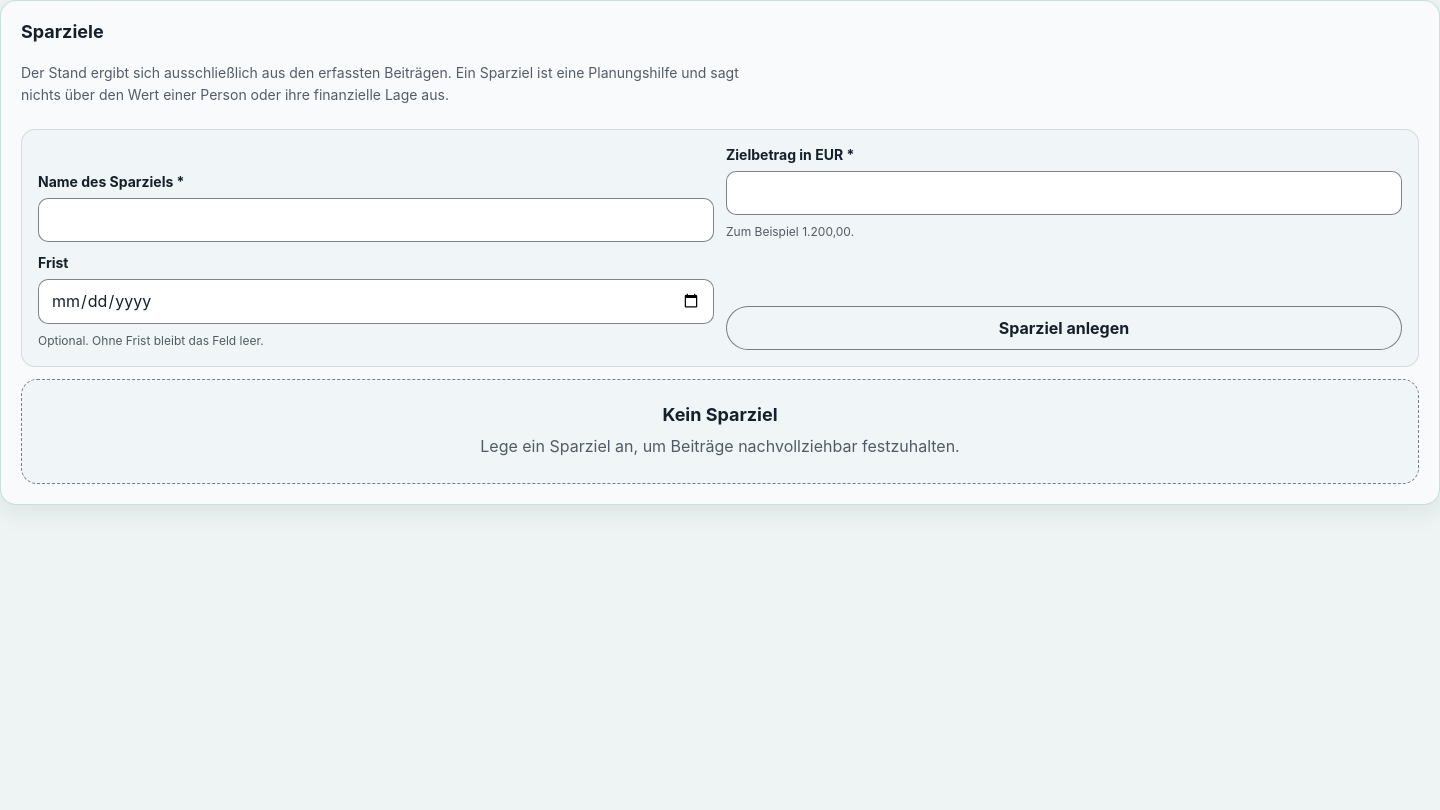
SavingsPanel › derives the current amount from the contributions
Check: the button "Sparziel anlegen" is shown, box [726,306,1402,350]
Type "Synthetisches Sparziel" into the field labelled "Name des Sparziels *" at (376,220), box [38,198,714,242]
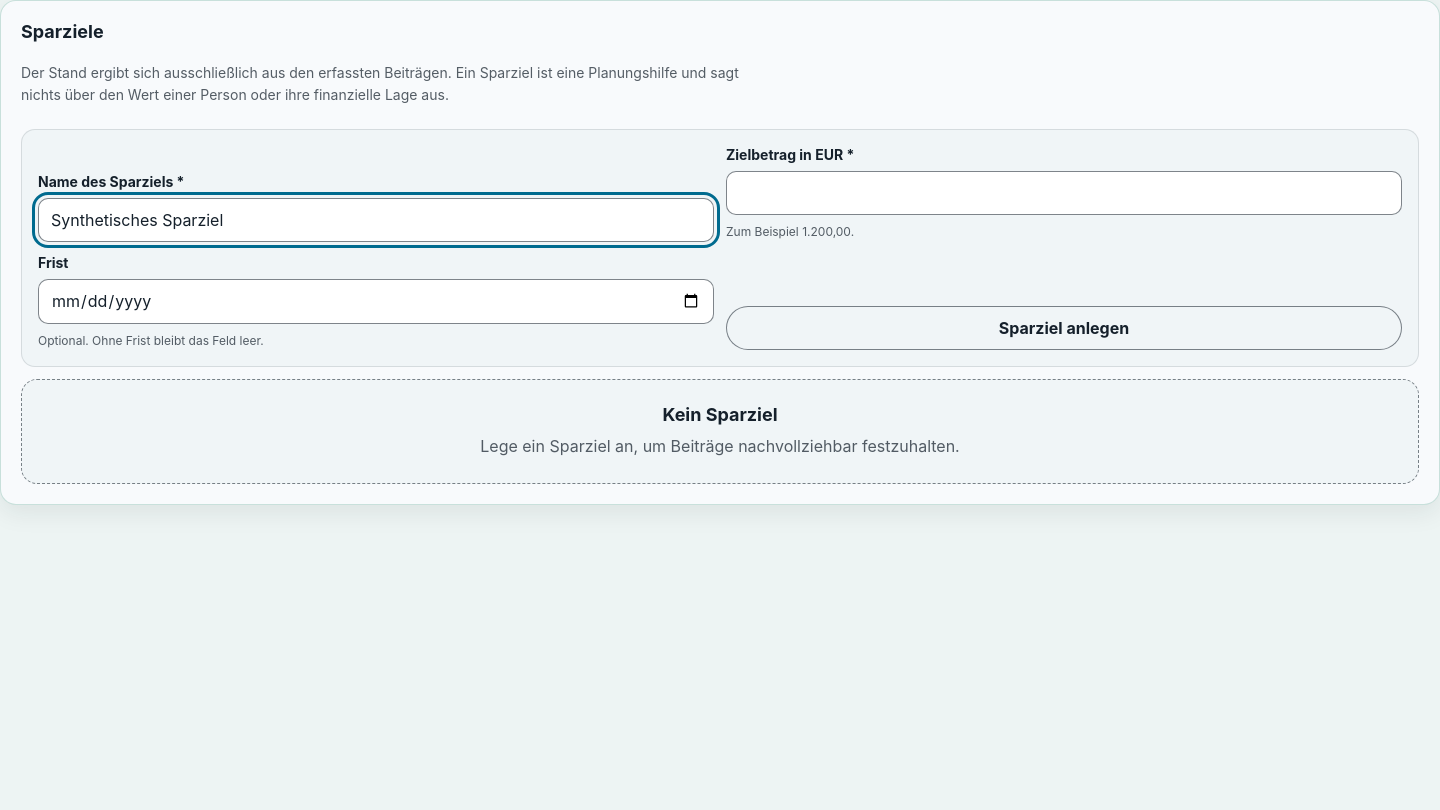
Type "1.000,00" into the field labelled "Zielbetrag in EUR *" at (1064,193), box [726,171,1402,215]
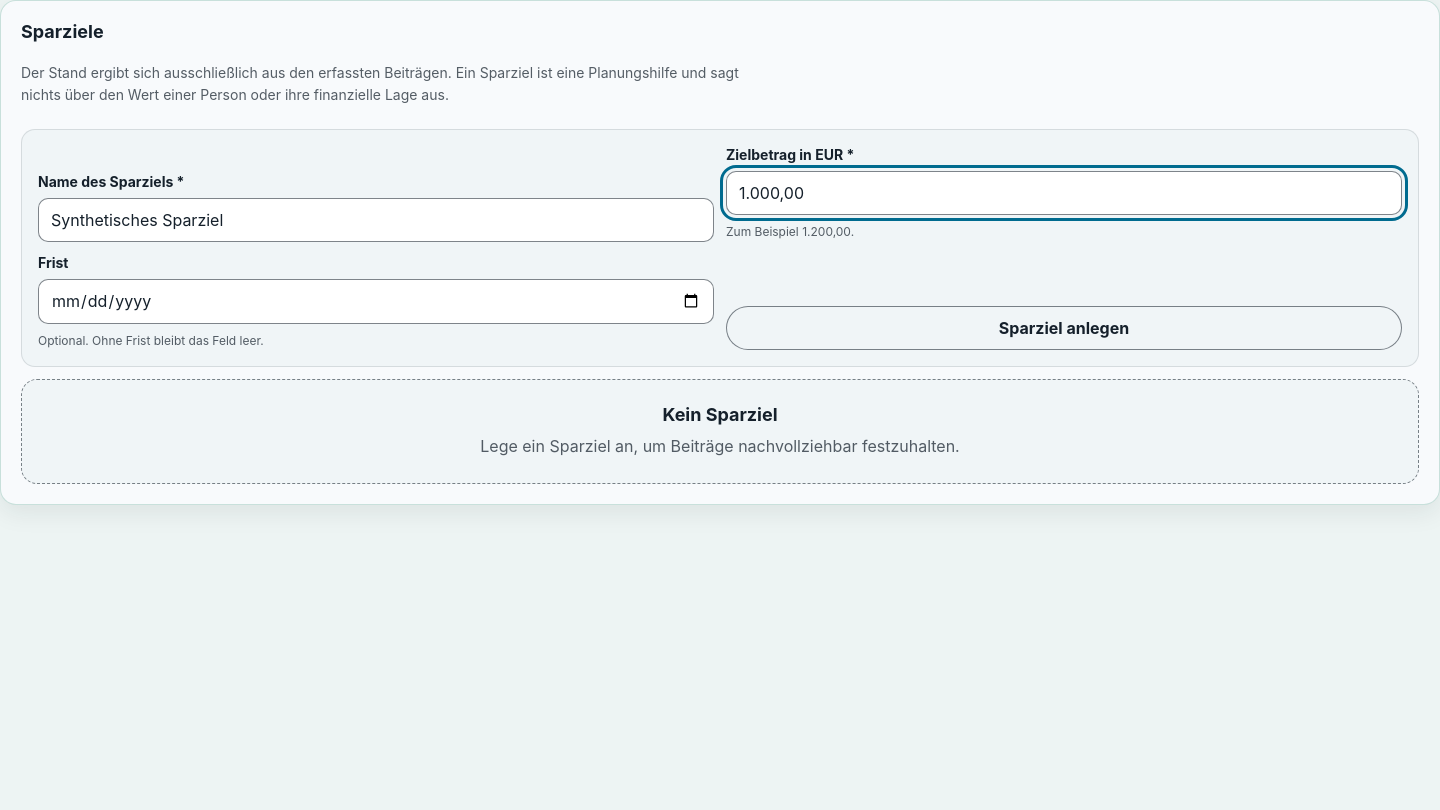
Click the button "Sparziel anlegen" at (1064,328), box [726,306,1402,350]
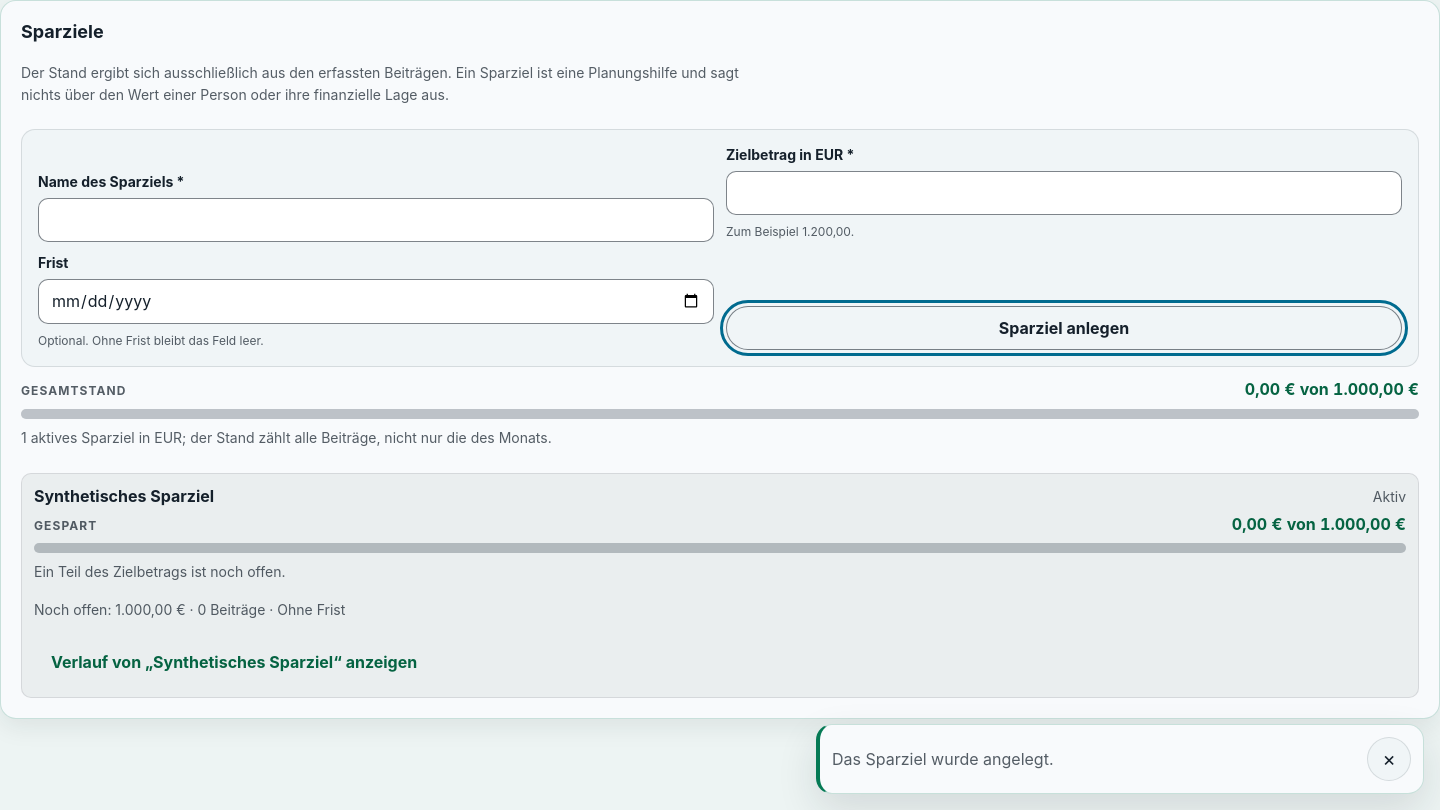
Check: the heading "Synthetisches Sparziel" is shown, box [34,486,214,506]
Click the button "Verlauf von „Synthetisches Sparziel“ anzeigen" at (234,663), box [34,641,434,685]
(page scrolled)
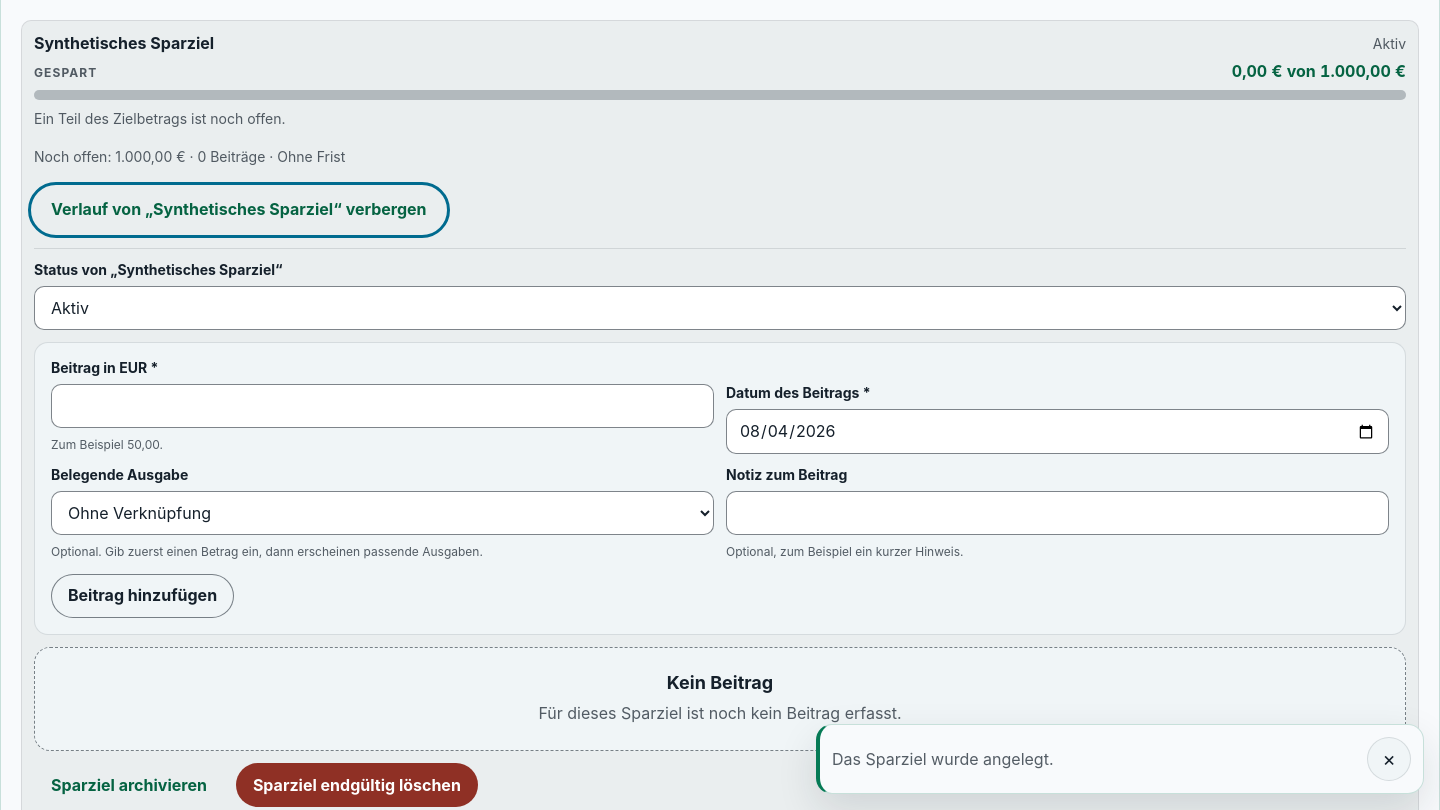
Type "250,00" into the field labelled "Beitrag in EUR *" at (382,406), box [51,384,714,428]
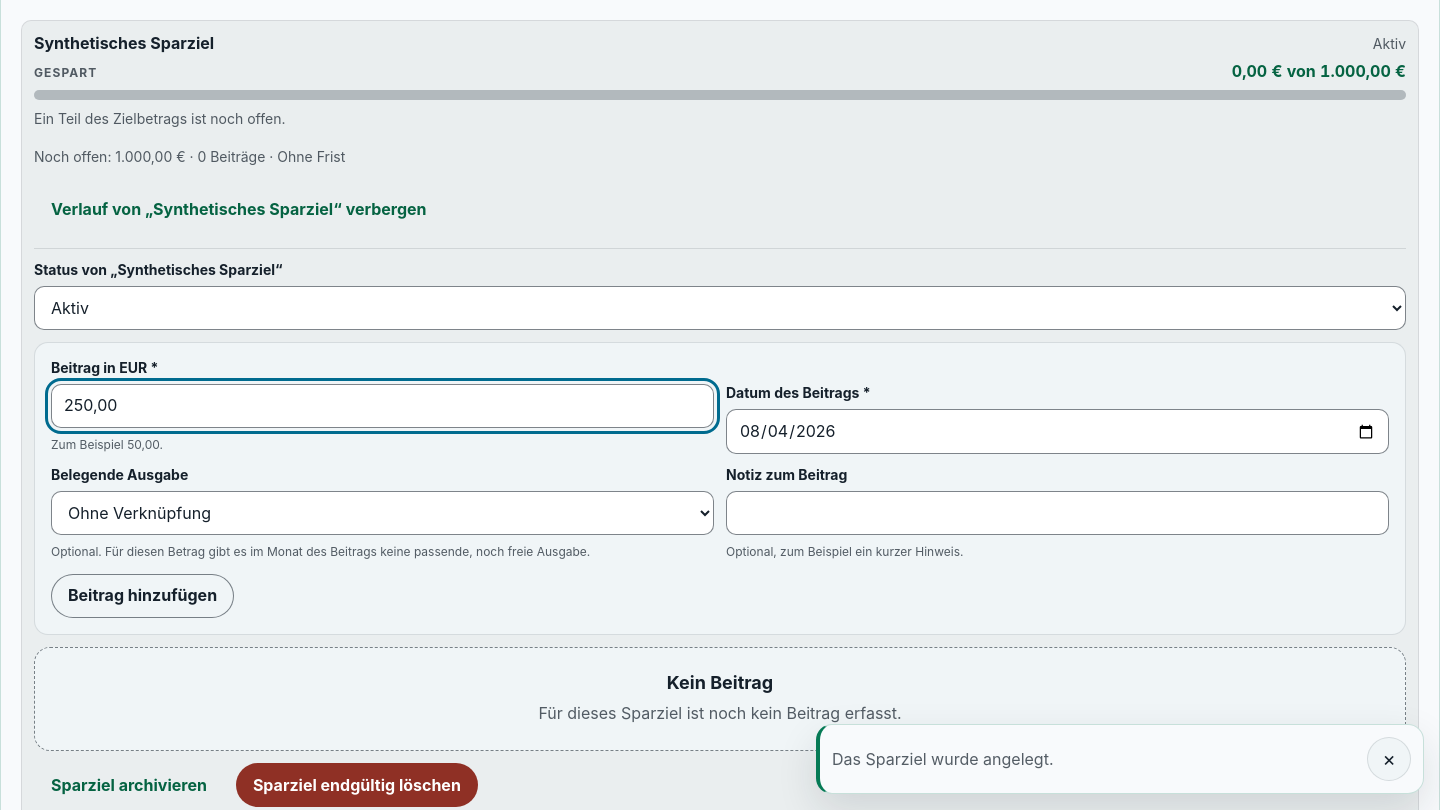
Click the button "Beitrag hinzufügen" at (143,596), box [51,574,234,618]
(page scrolled)
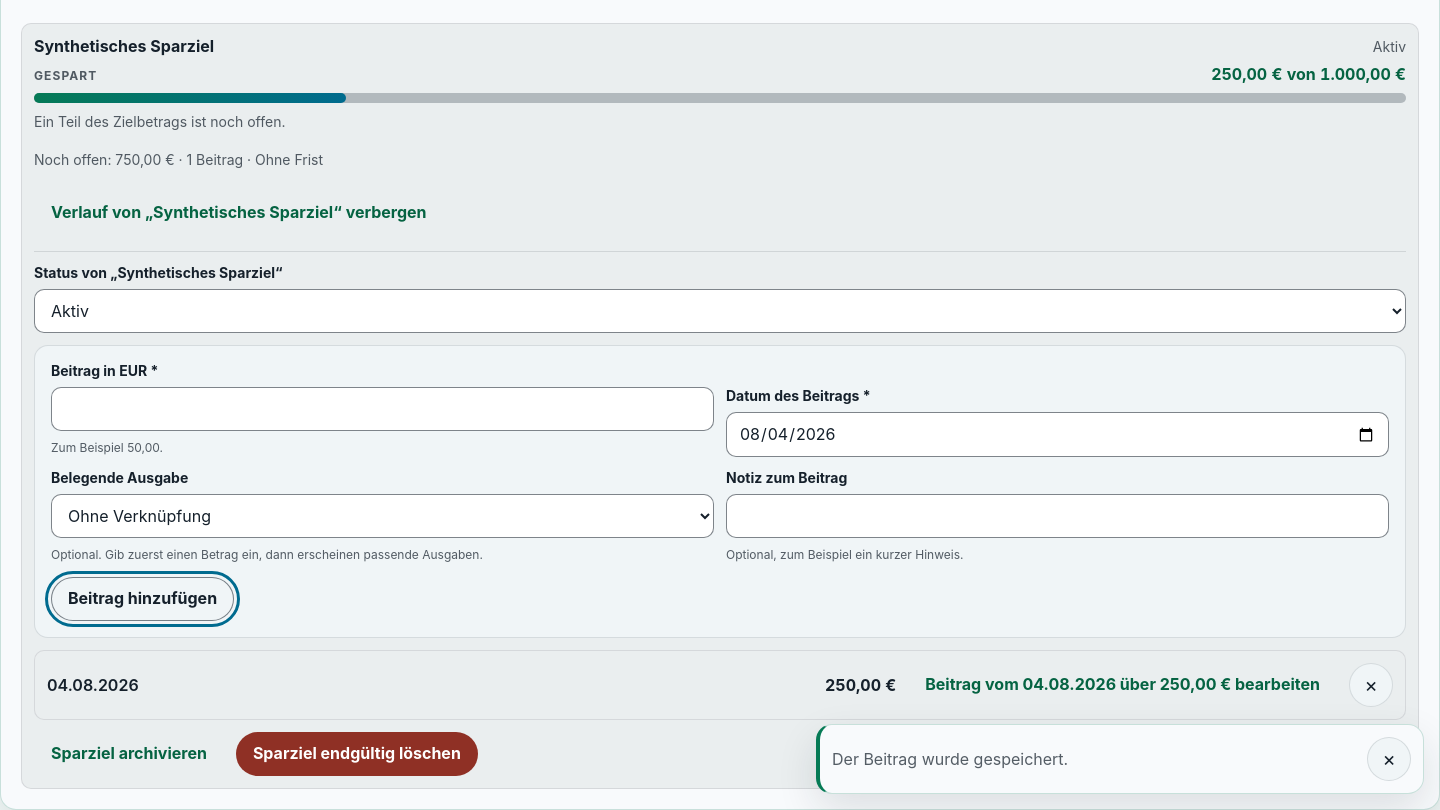
Check: the text "Ein Teil des Zielbetrags ist noch offen." is shown, box [34,113,286,130]
Check: the text "Noch offen: 750,00 € · 1 Beitrag · Ohne Frist" is shown, box [34,151,323,168]
